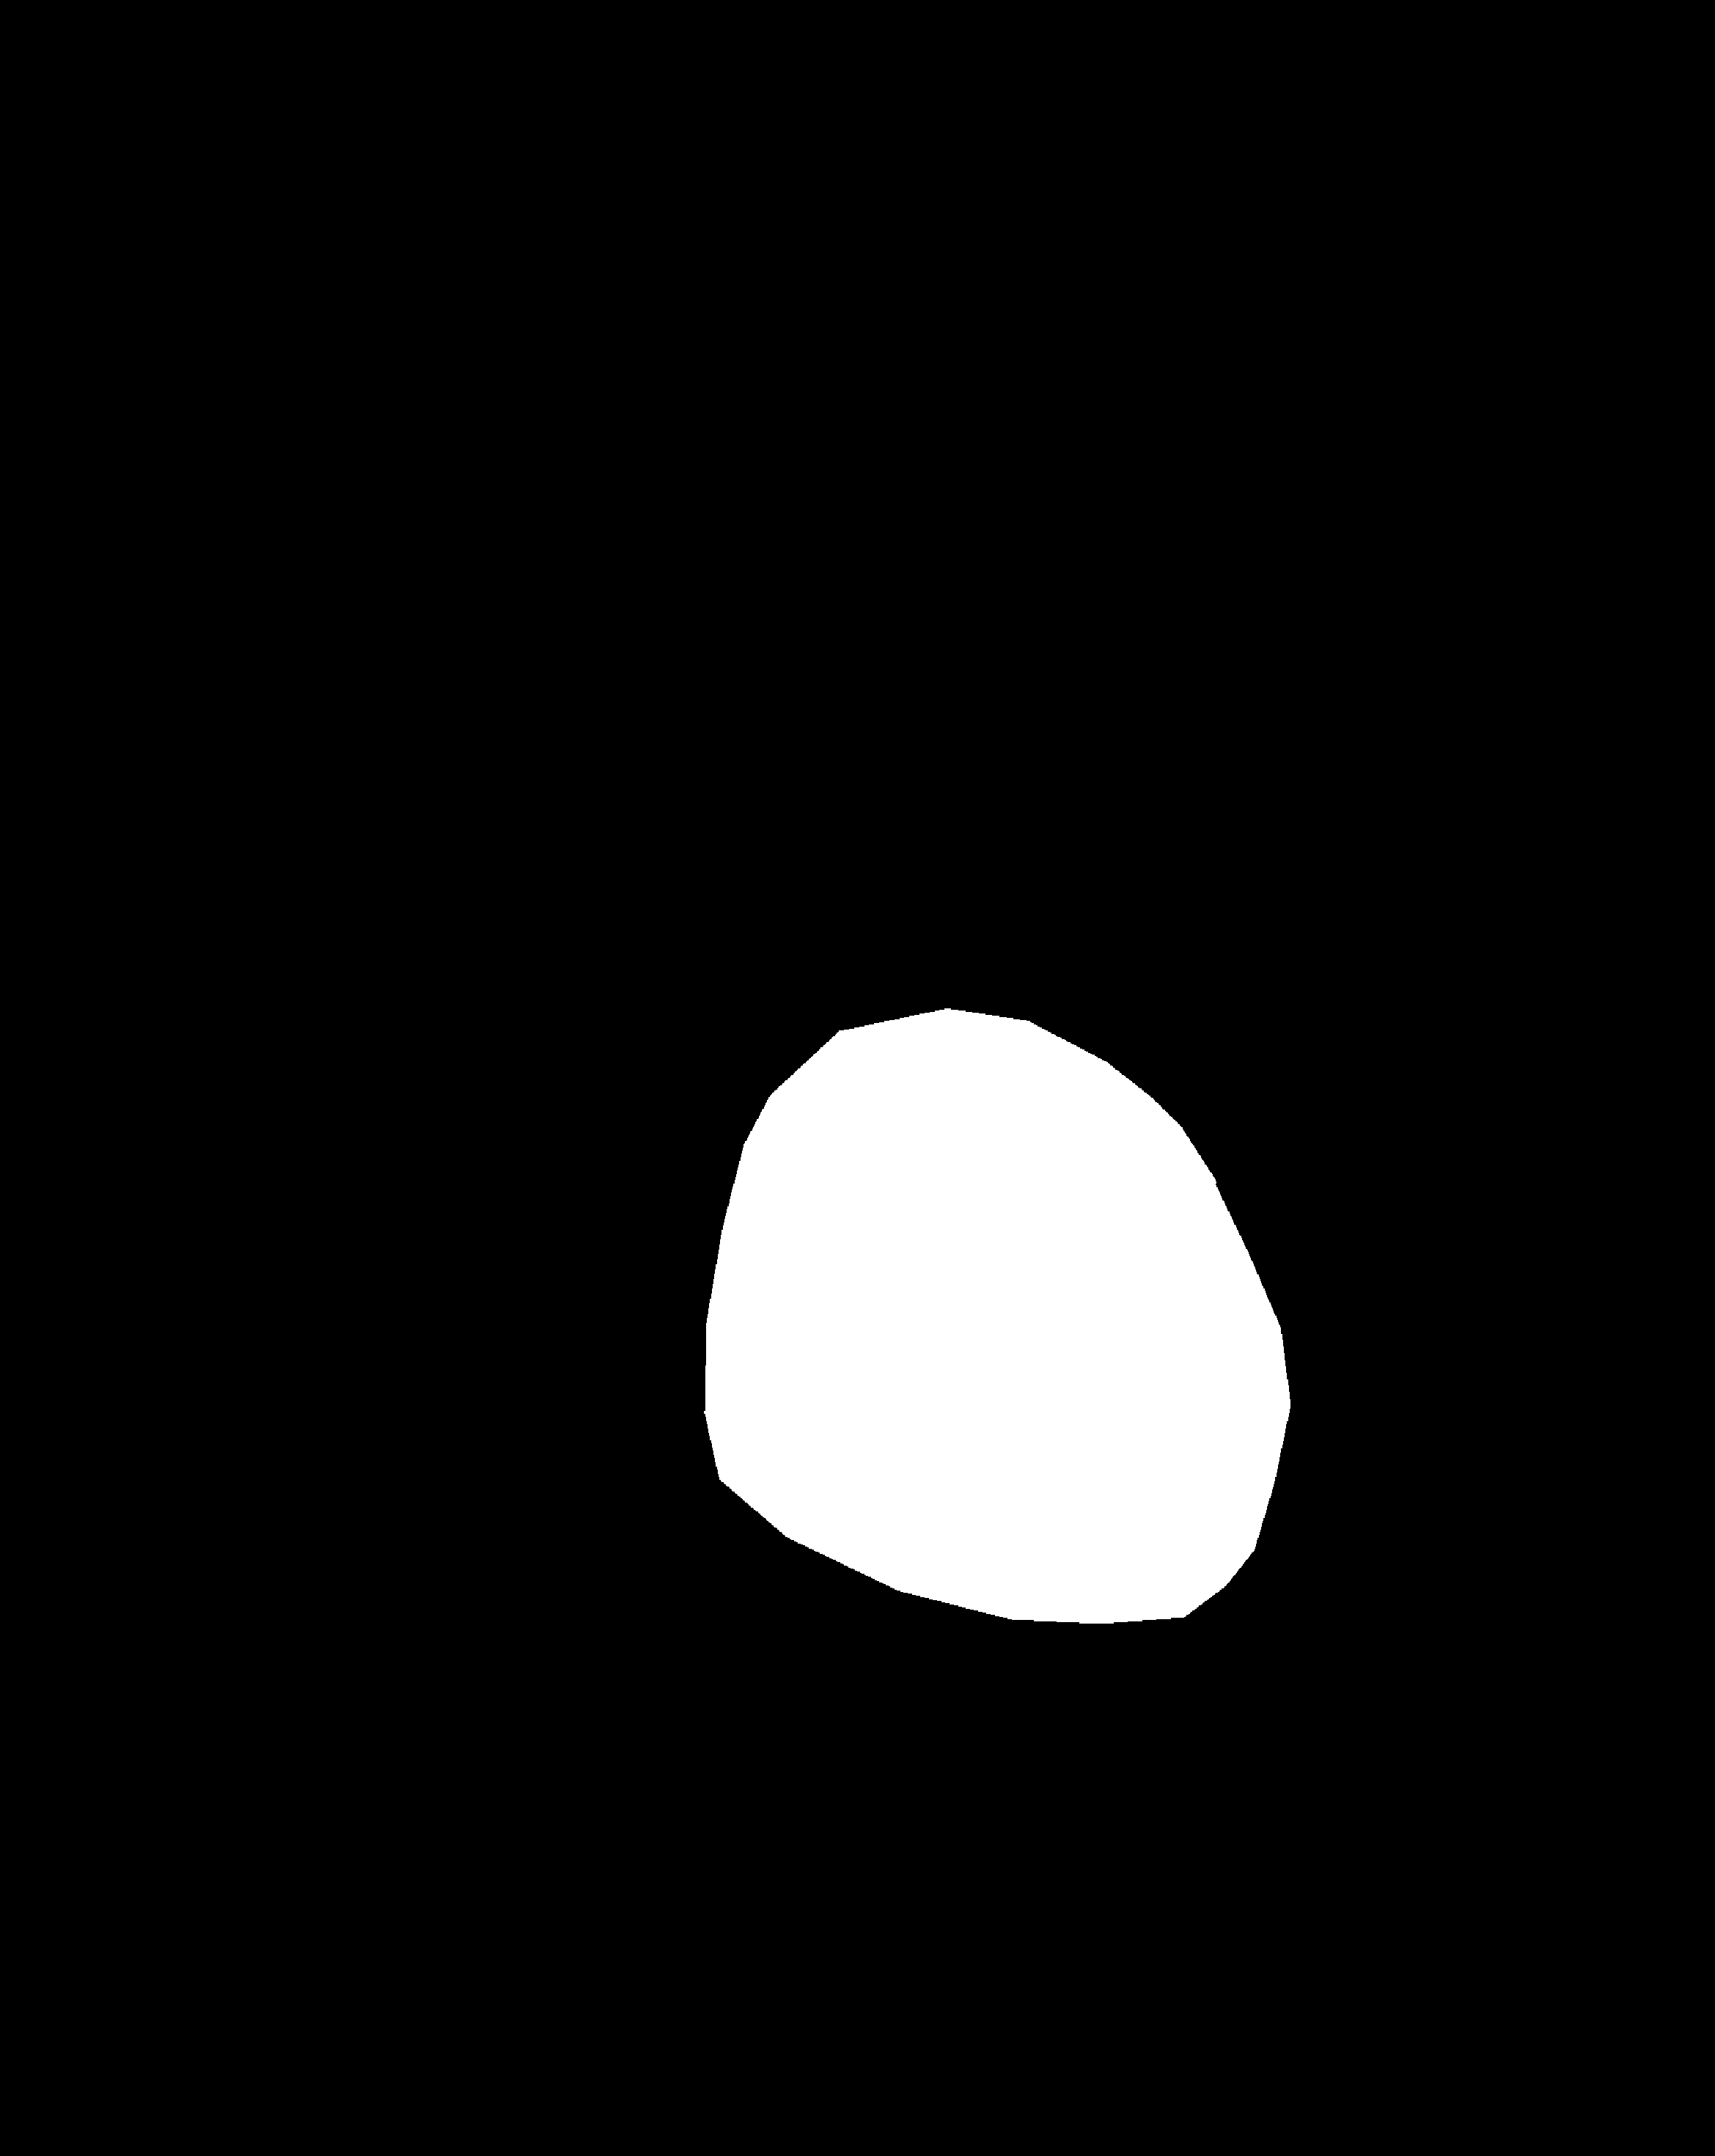heart: (702, 1087, 1286, 1701)
left_lung: (200, 275, 807, 1795)
right_lung: (945, 292, 1538, 1888)
